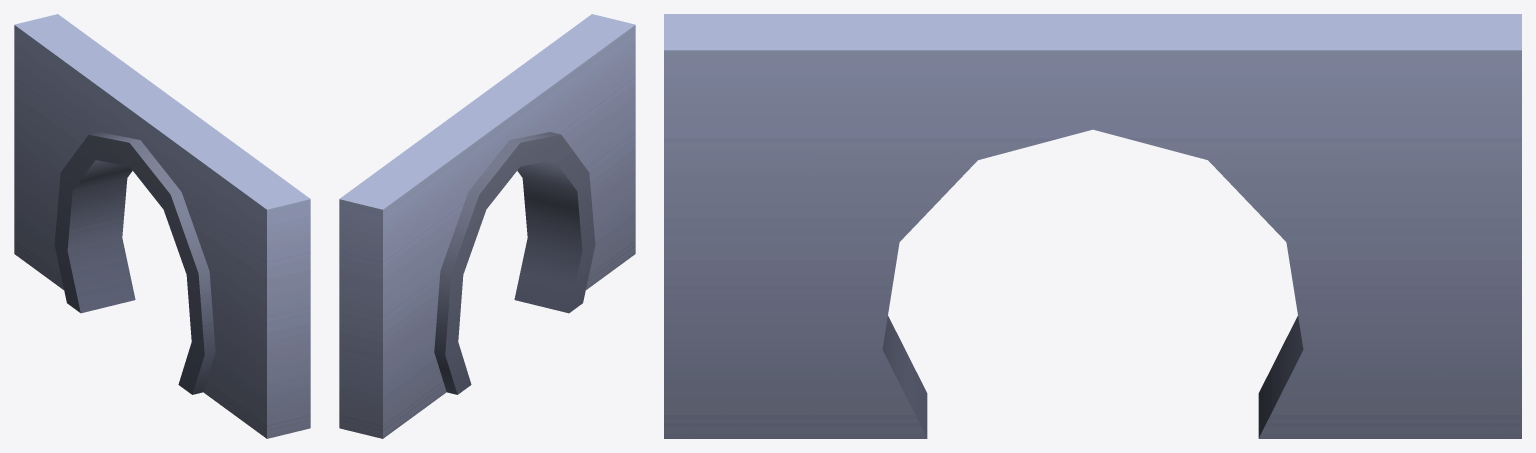
Rendered from wall-doorway-round.glb.
The picture shows the model from 3 angles, left to right: view 1: azimuth 30°, elevation 25°; view 2: azimuth 150°, elevation 25°; view 3: azimuth 270°, elevation 25°; orthographic projection. The views are drawn at different scales.
Visible parts, largest first — view 1: wall-doorway-round; view 2: wall-doorway-round; view 3: wall-doorway-round.
Part boxes in pixels (x1,y1,x2,y2): wall-doorway-round: (14,14,310,438); wall-doorway-round: (339,14,635,438); wall-doorway-round: (664,14,1521,438).
Size of the model in its own units: 0.25 by 1 by 2.
Materials: 1 (1 with a texture image).
